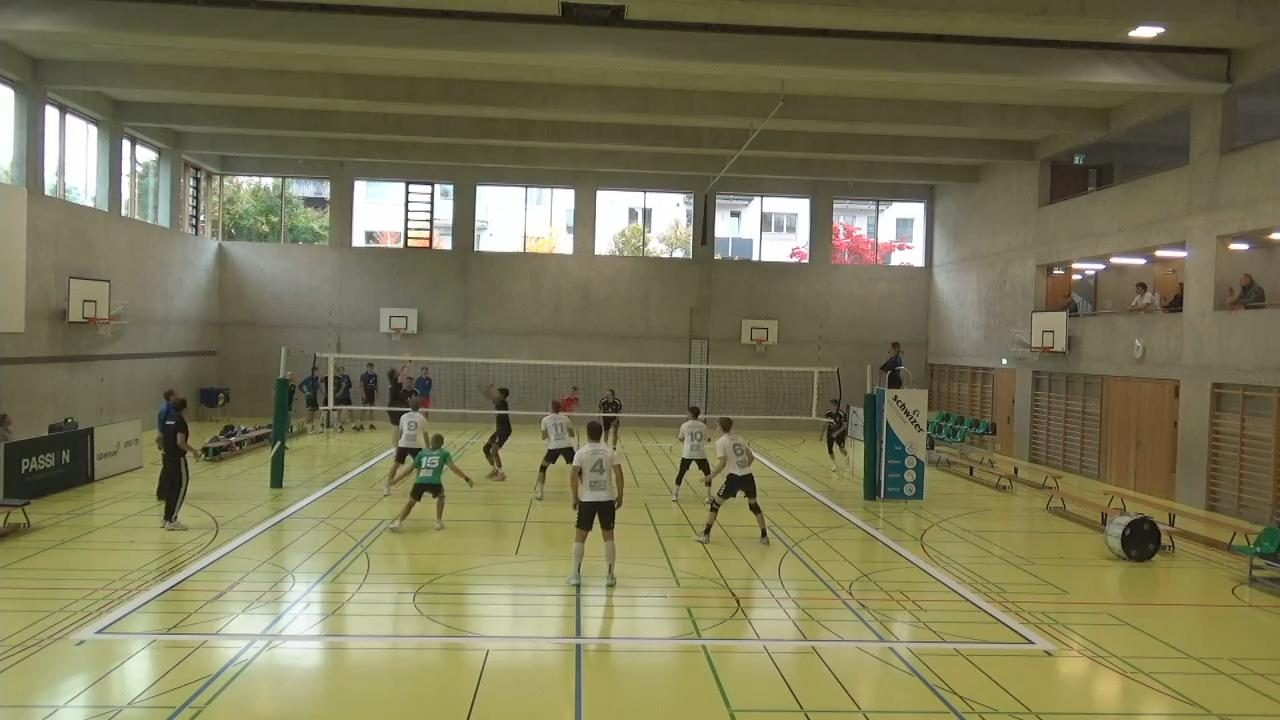alzata: (383, 354, 413, 431)
